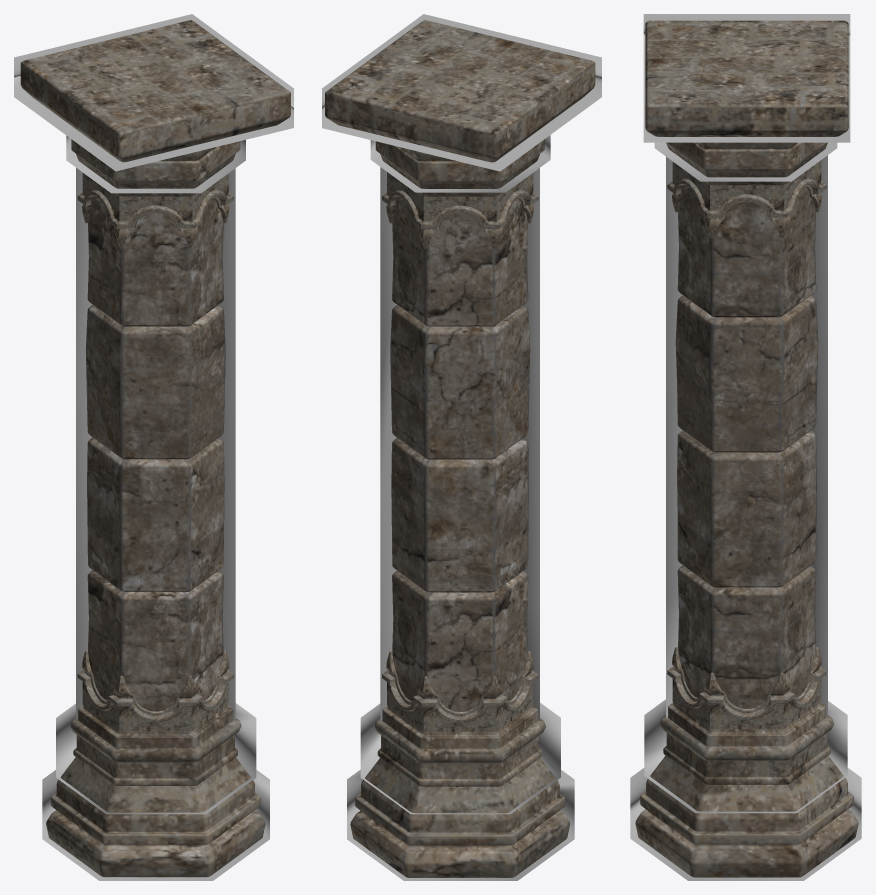
File: SM_Pillar_03a.gltf
3 renders of one model, left to right at view 1: azimuth 30°, elevation 25°; view 2: azimuth 150°, elevation 25°; view 3: azimuth 270°, elevation 25°, orthographic.
Visible parts, largest first — view 1: SM_Pillar_03a, SM_Pillar_03a_ConvexHulls; view 2: SM_Pillar_03a, SM_Pillar_03a_ConvexHulls; view 3: SM_Pillar_03a, SM_Pillar_03a_ConvexHulls.
Boxes of the visible parts, <box> form: SM_Pillar_03a: <box>20,20,290,877</box>; SM_Pillar_03a_ConvexHulls: <box>14,14,293,880</box>; SM_Pillar_03a: <box>325,20,595,877</box>; SM_Pillar_03a_ConvexHulls: <box>322,14,601,880</box>; SM_Pillar_03a: <box>635,20,858,877</box>; SM_Pillar_03a_ConvexHulls: <box>630,14,861,880</box>.
Size of the model in its own units: 2.57 by 10.58 by 2.85.
3 materials, 2 textured.
